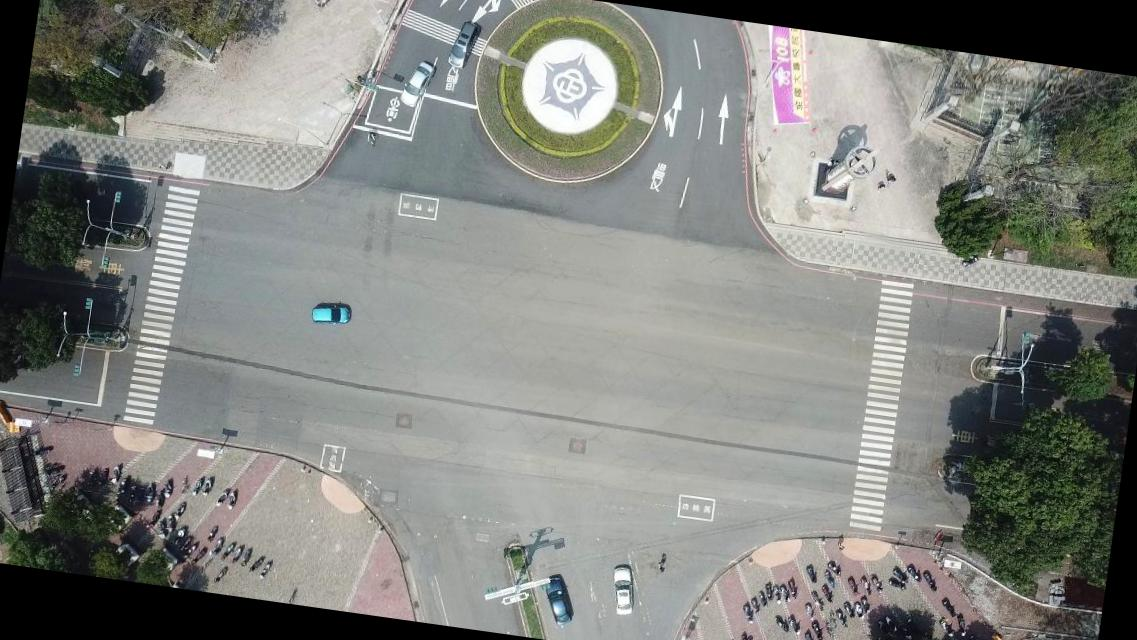vehicle: (396, 58, 438, 114), (537, 573, 578, 627), (444, 18, 479, 71), (608, 561, 640, 617), (309, 300, 352, 328)
